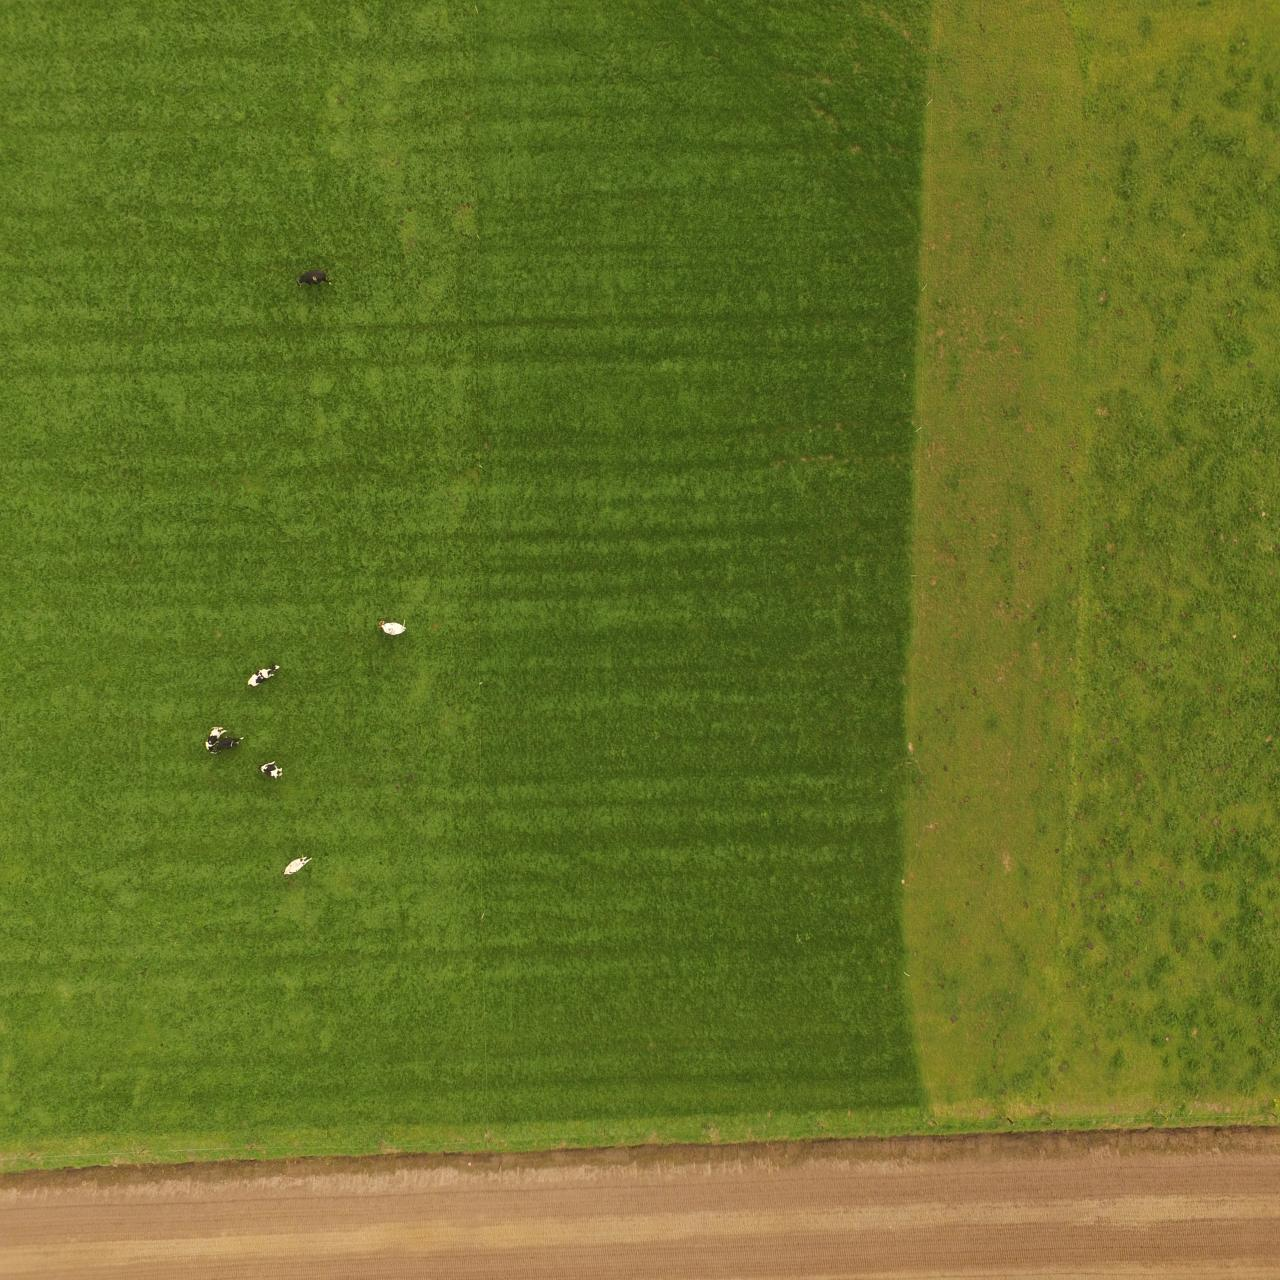cow: (240, 665, 282, 688), (374, 614, 411, 635), (204, 722, 227, 755), (277, 857, 313, 877), (295, 270, 333, 288), (260, 761, 286, 782), (219, 737, 248, 751)
